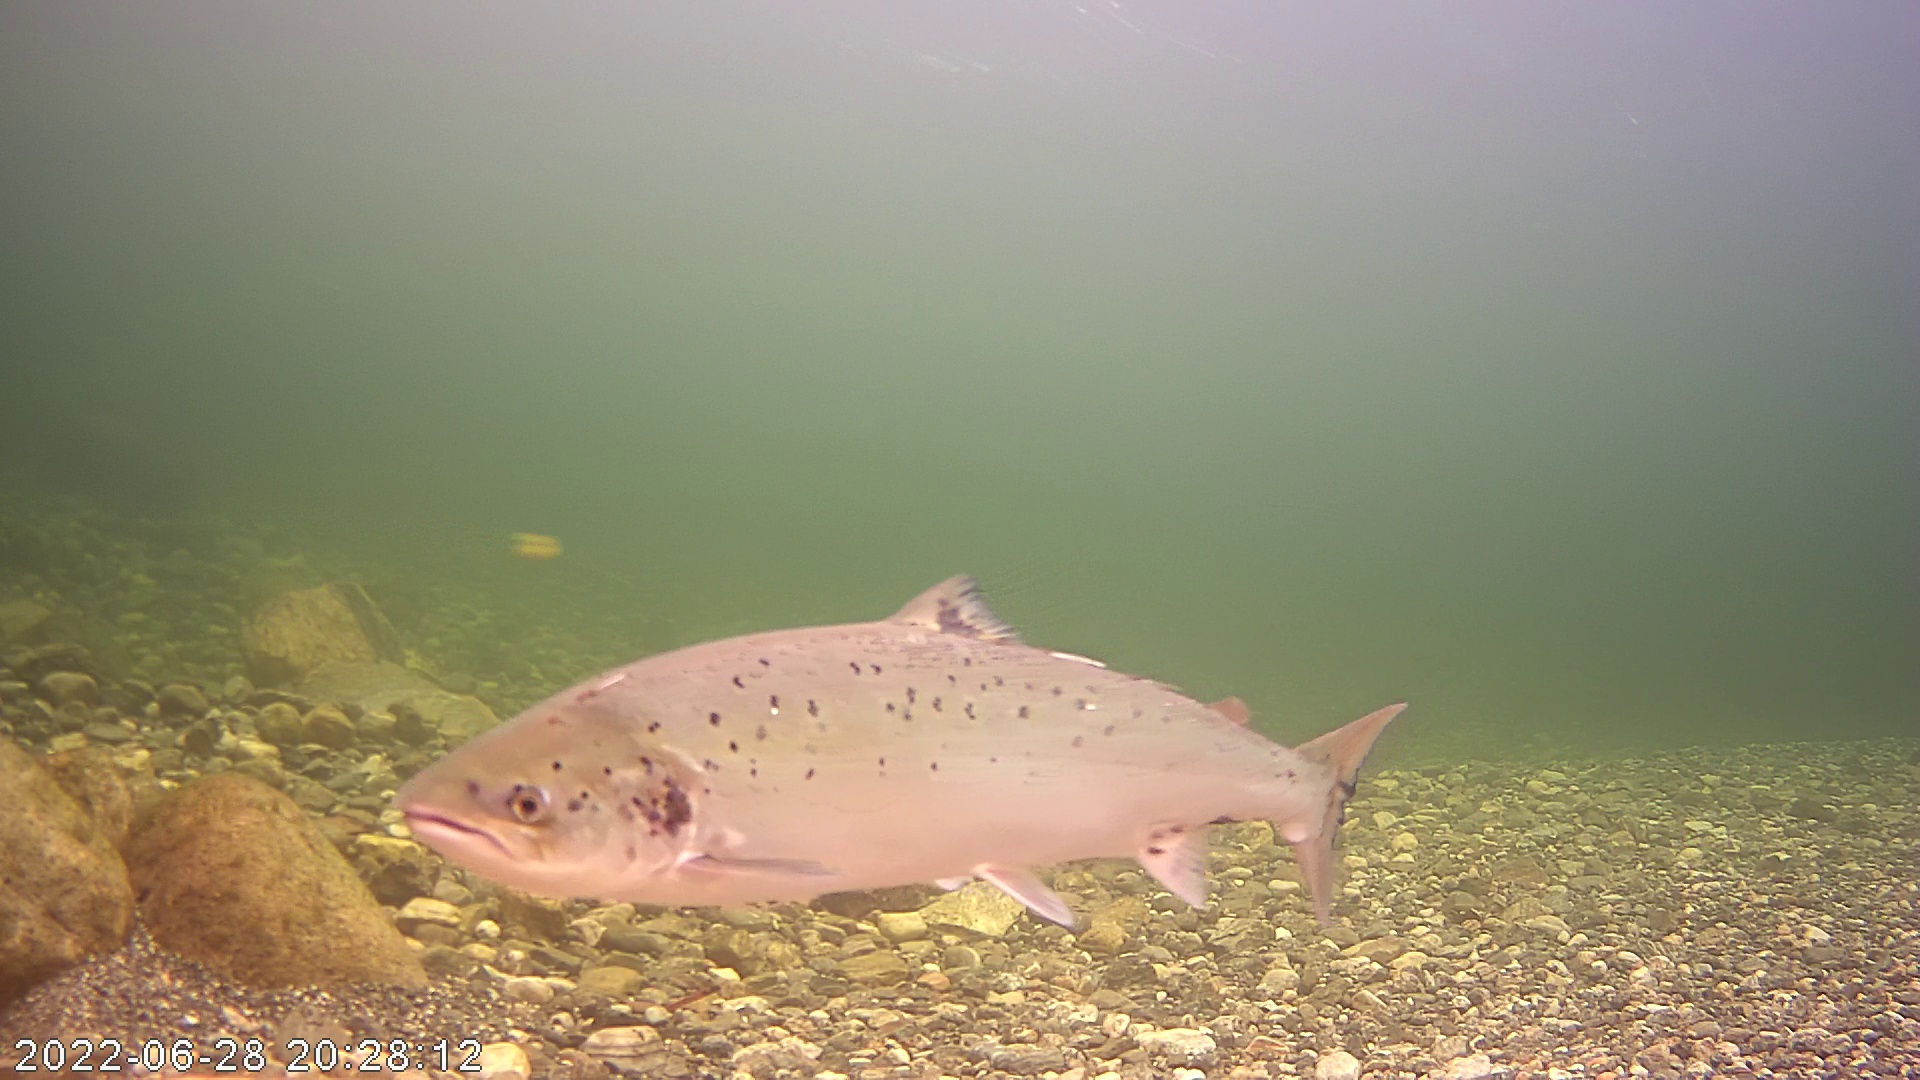salmon: (382, 572, 1408, 931)
